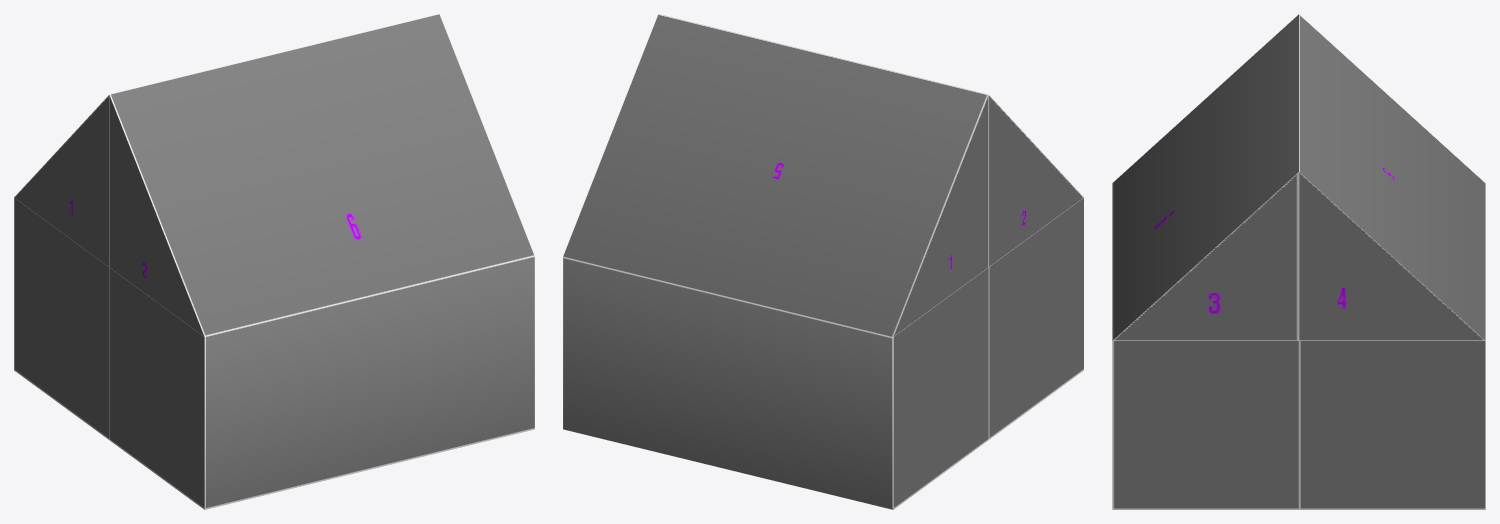
The model's file is House.fbx.
3 views of the same model, side by side, from view 1: azimuth 30°, elevation 25°; view 2: azimuth 150°, elevation 25°; view 3: azimuth 270°, elevation 25° (orthographic). The views are drawn at different scales.
Visible parts, largest first — view 1: pCube1; view 2: pCube1; view 3: pCube1.
Part boxes in pixels (left/top/right/bottom): pCube1: left=14, top=14, right=534, bottom=509; pCube1: left=563, top=14, right=1083, bottom=509; pCube1: left=1112, top=14, right=1485, bottom=509.
Bounding box in the file's own units: 400 × 400 × 400.
Materials: 1 (1 with a texture image).
